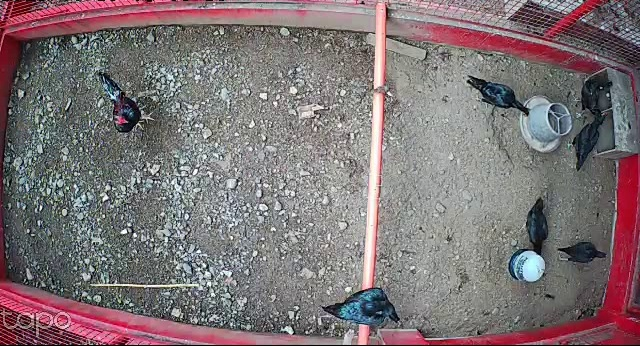Chicken: (320, 287, 405, 327), (466, 72, 531, 117), (566, 110, 611, 173), (520, 196, 553, 256), (573, 79, 614, 121), (556, 236, 608, 264)
Drinker: (508, 248, 546, 282)
Feeder: (520, 92, 573, 151)
Rooster: (96, 72, 155, 135)
